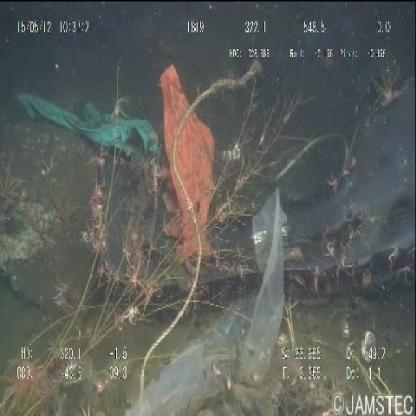Rác: (127, 188, 288, 415)
